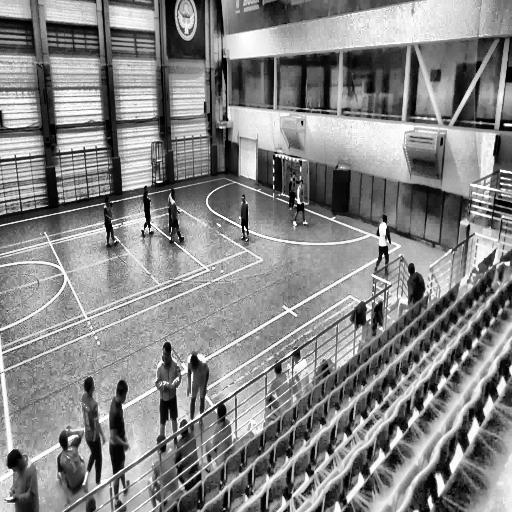ball: (398, 253, 402, 260)
player: (80, 376, 107, 499), (155, 340, 183, 451), (107, 379, 131, 507), (186, 352, 208, 425), (373, 215, 390, 274), (167, 188, 184, 246), (103, 195, 119, 249), (140, 184, 154, 239), (292, 178, 306, 228), (287, 169, 299, 212), (240, 194, 250, 243), (168, 187, 174, 232)
